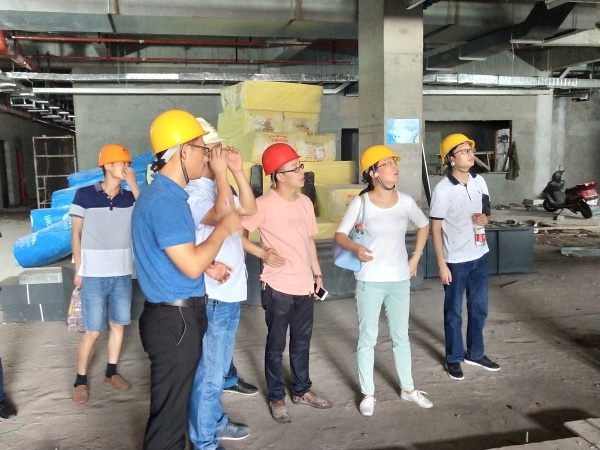red: (261, 141, 307, 193)
yellow: (147, 109, 208, 181), (359, 143, 402, 189), (437, 132, 477, 175), (94, 142, 133, 182)
